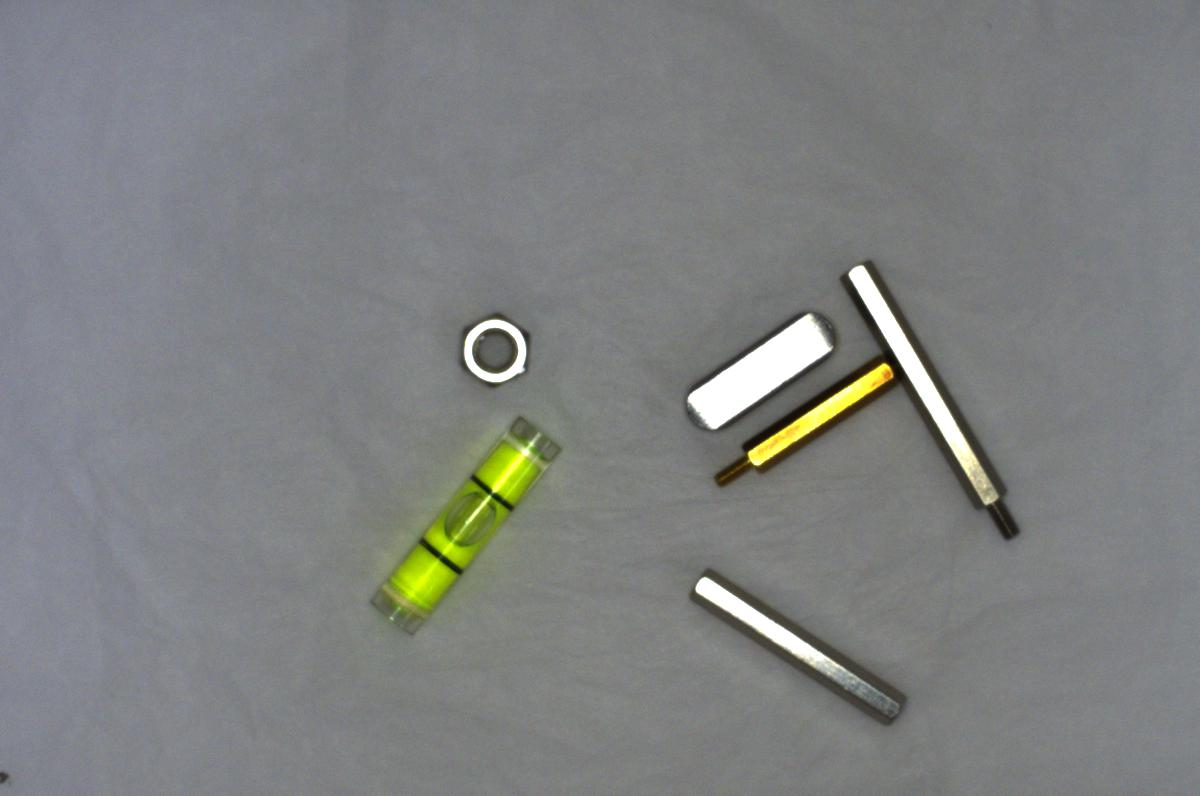Double hexagonal column: (675, 563, 917, 733)
Hexagon nut: (456, 308, 539, 395)
Hexagon pillar: (707, 350, 891, 491)
Hexagonal steel column: (847, 255, 1030, 551)
Horizontal bubble: (356, 406, 573, 641)
Keybar: (679, 294, 844, 432)
